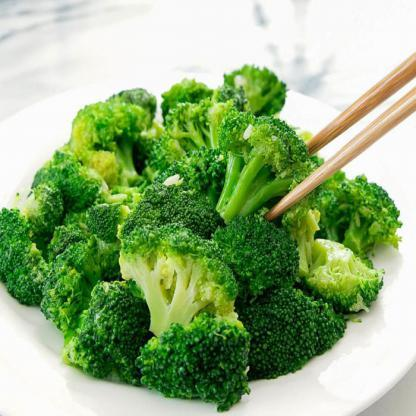broccoli: (0, 63, 406, 414)
